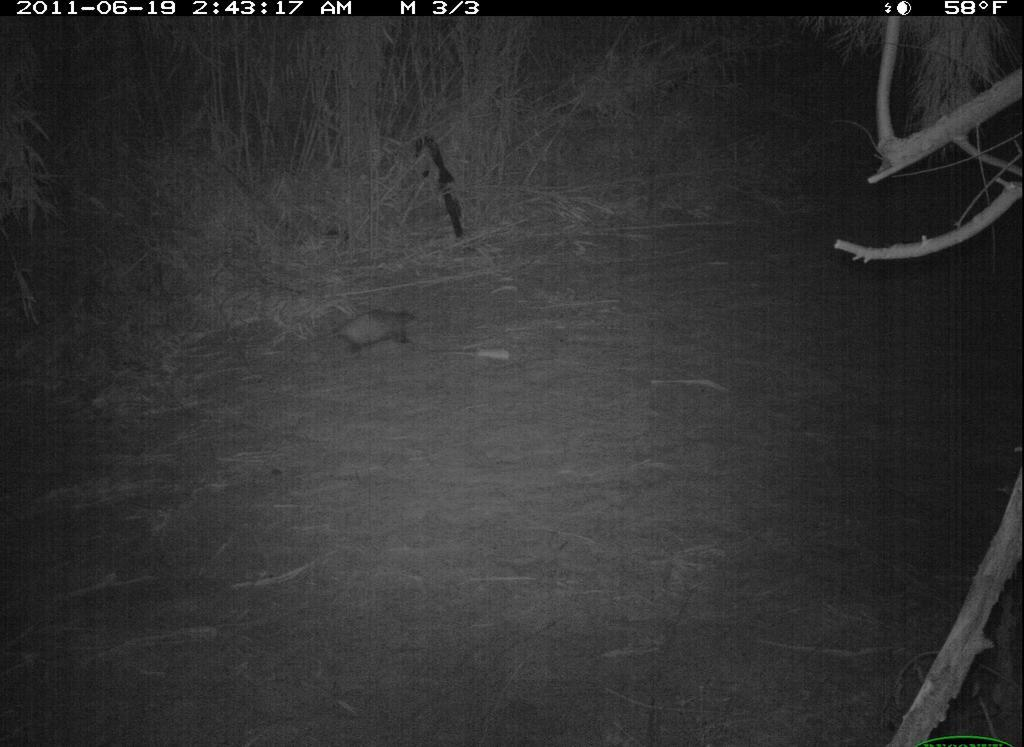opossum: (283, 299, 431, 367)
